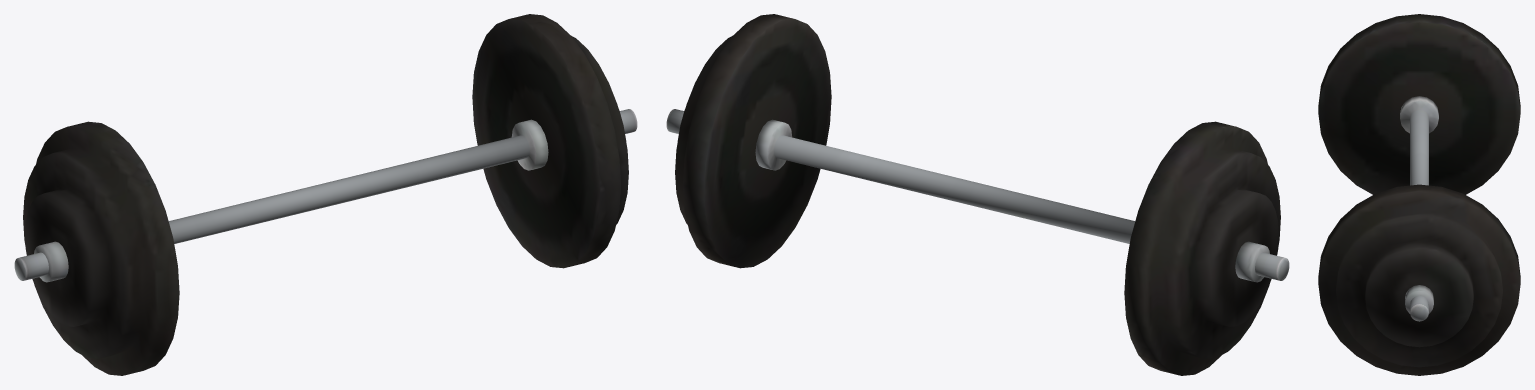
File: barbell.glb
3 renders of one model, left to right at view 1: azimuth 30°, elevation 25°; view 2: azimuth 150°, elevation 25°; view 3: azimuth 270°, elevation 25°, orthographic. The views are drawn at different scales.
Size of the model in its own units: 19.2 by 6.95 by 6.95.
Materials: 1 (1 with a texture image).
